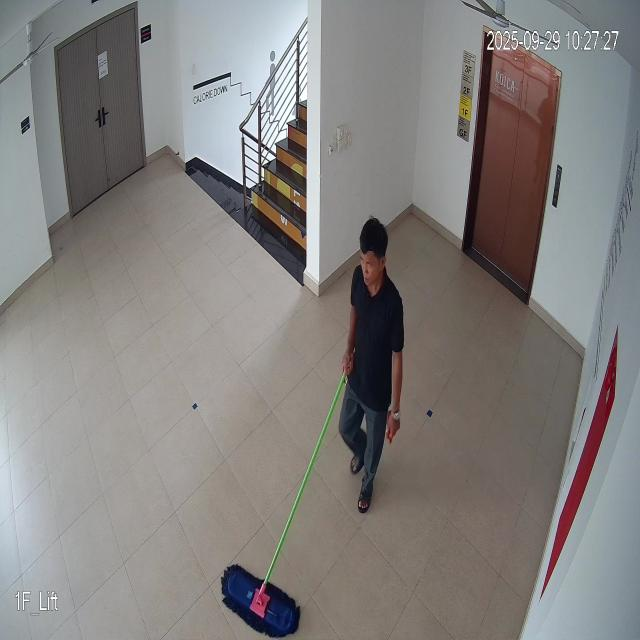face: (356, 224, 391, 290)
